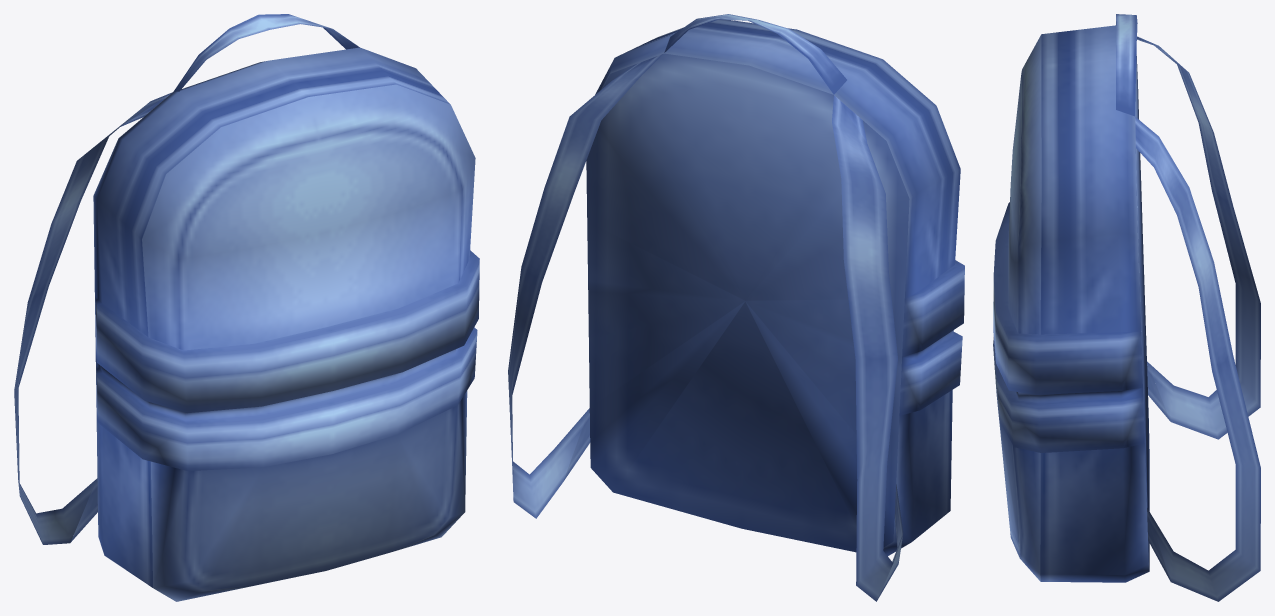
The model's file is shubao.FBX.
3 views of the same model, side by side, from view 1: azimuth 30°, elevation 25°; view 2: azimuth 150°, elevation 25°; view 3: azimuth 270°, elevation 25° (orthographic). The views are drawn at different scales.
Parts seen in each view (by area): view 1: xiaowu3; view 2: xiaowu3; view 3: xiaowu3.
Boxes of the visible parts, x1=… form: xiaowu3: x1=14, y1=14, x2=479, y2=601; xiaowu3: x1=508, y1=14, x2=964, y2=601; xiaowu3: x1=993, y1=14, x2=1260, y2=601.
Size of the model in its own units: 57.78 by 74.7 by 36.17.
Materials: 1 (1 with a texture image).
